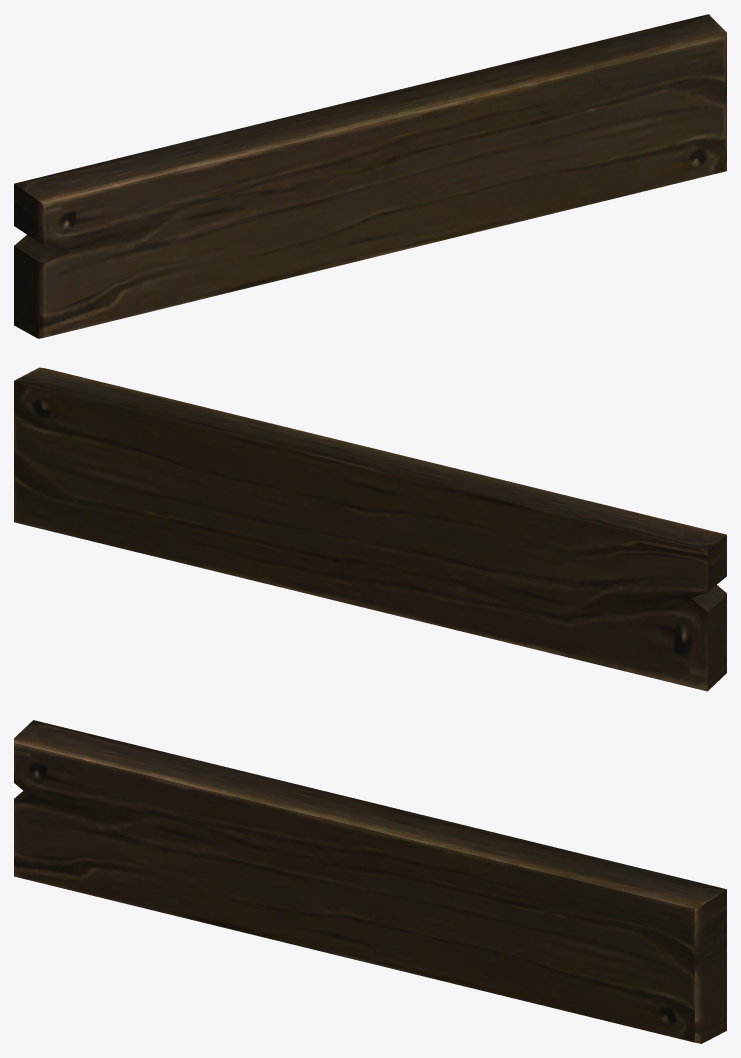
The model's file is juqing_fuben_544_diban_01.obj.
3 renders of one model, top to bottom at view 1: azimuth 30°, elevation 25°; view 2: azimuth 150°, elevation 25°; view 3: azimuth 330°, elevation 25°, orthographic.
Parts seen in each view (by area): view 1: juqing_fuben_544_diban_01; view 2: juqing_fuben_544_diban_01; view 3: juqing_fuben_544_diban_01.
Part boxes in pixels (x1,y1,x2,y2): juqing_fuben_544_diban_01: (14, 14, 726, 338); juqing_fuben_544_diban_01: (14, 367, 726, 691); juqing_fuben_544_diban_01: (14, 720, 726, 1043).
Size of the model in its own units: 1356 by 264 by 82.82.
1 material, 1 textured.
